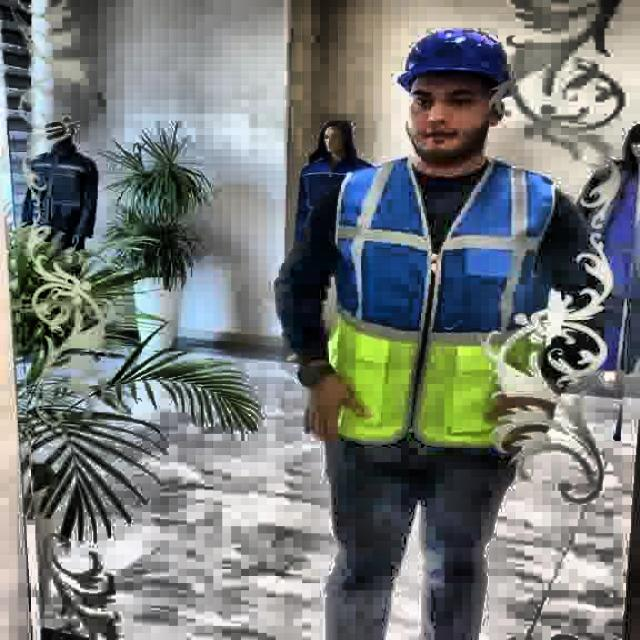safety_helmet: (396, 28, 515, 89)
safety_jacket: (328, 154, 563, 453)
